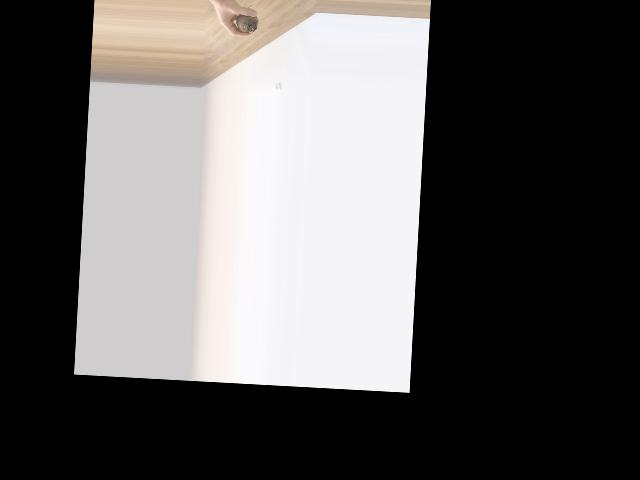beet: (236, 3, 259, 34)
